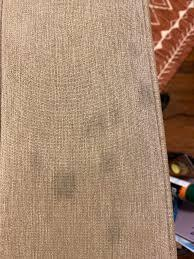mustard: (83, 118, 120, 173), (45, 165, 76, 198), (133, 86, 156, 107)
